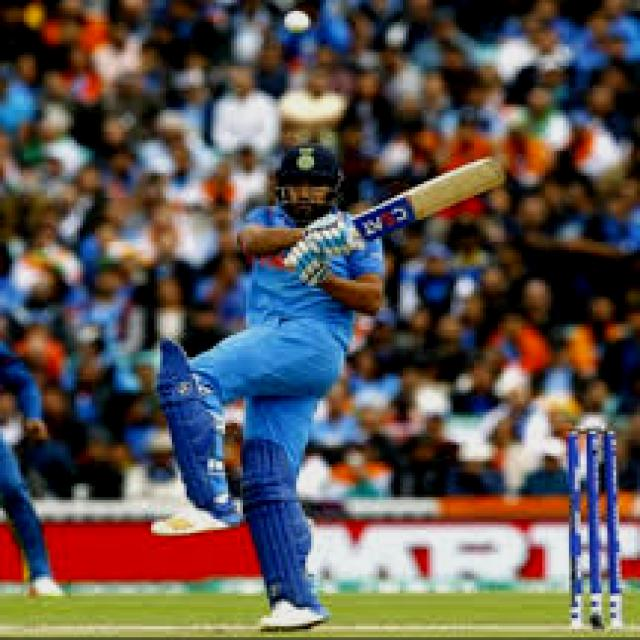toe: (471, 156, 511, 194)
